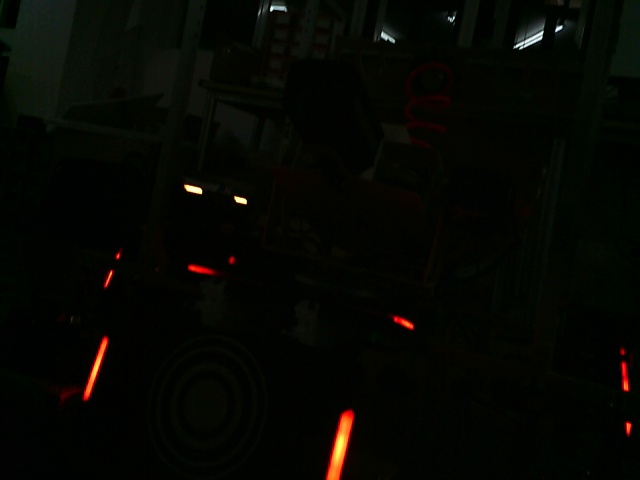lamp: (74, 332, 112, 403)
